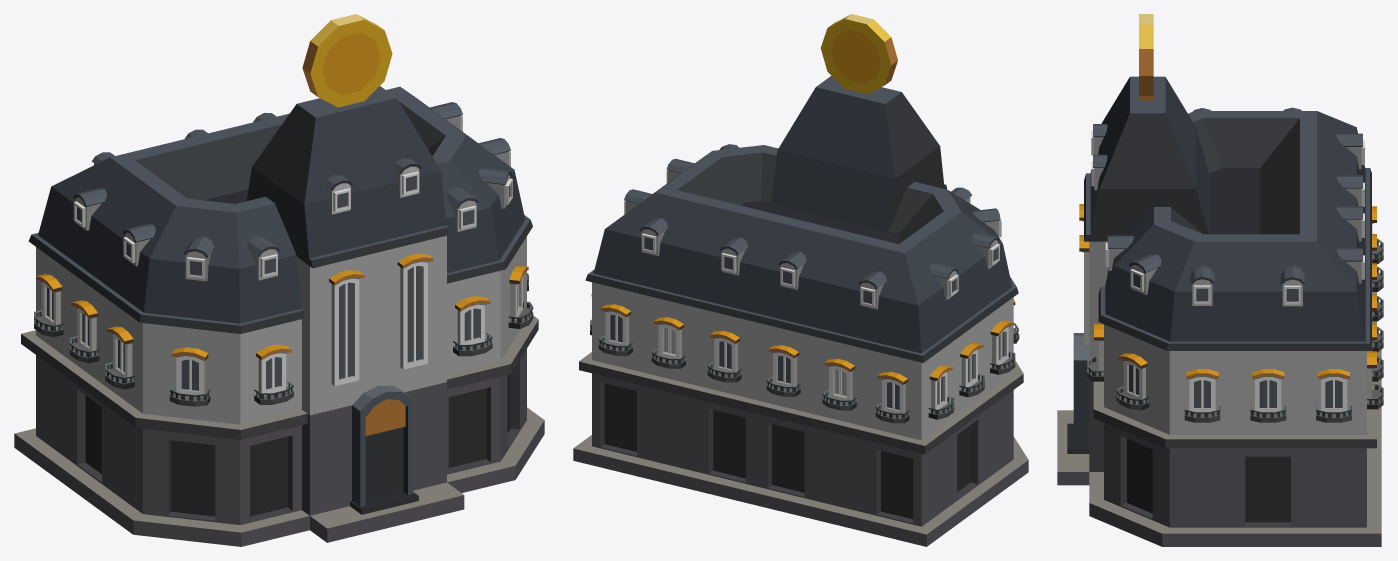
The model's file is TB_CITY_Uniq_Bank.FBX.
The picture shows the model from 3 angles, left to right: view 1: azimuth 30°, elevation 25°; view 2: azimuth 150°, elevation 25°; view 3: azimuth 270°, elevation 25°; orthographic projection. The views are drawn at different scales.
Parts seen in each view (by area): view 1: TB_CITY_Uniq_Bank; view 2: TB_CITY_Uniq_Bank; view 3: TB_CITY_Uniq_Bank.
Boxes of the visible parts, bbox=[...] form: TB_CITY_Uniq_Bank: bbox=[14, 14, 544, 546]; TB_CITY_Uniq_Bank: bbox=[573, 14, 1028, 546]; TB_CITY_Uniq_Bank: bbox=[1057, 14, 1383, 546].
Bounding box in the file's own units: 24.2 × 26.22 × 17.84.
